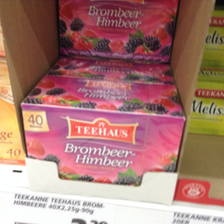tea: (18, 73, 188, 183)
